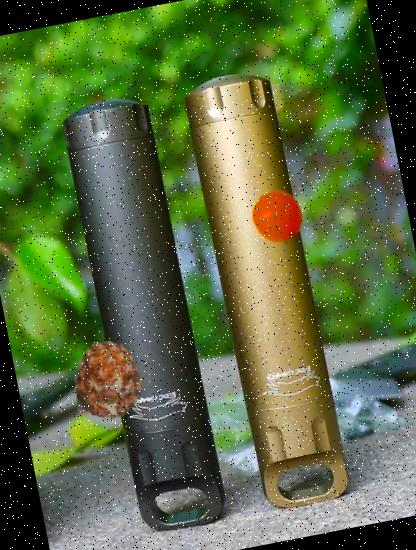Physalis: (248, 185, 308, 245)
Pineapple: (60, 332, 155, 427)
